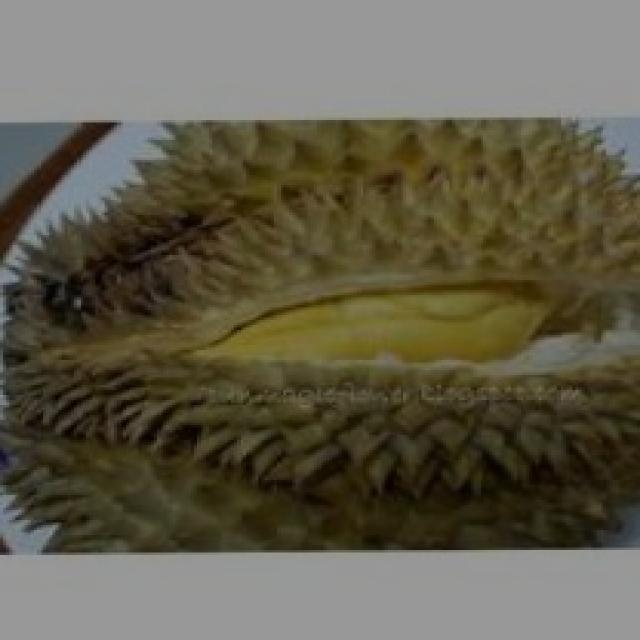fruit: (0, 120, 360, 535)
